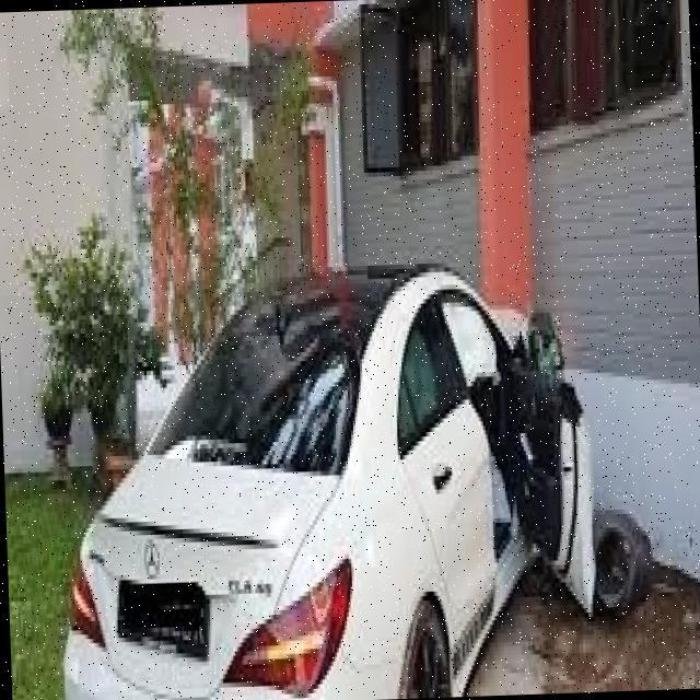Accident: (419, 239, 645, 624)
